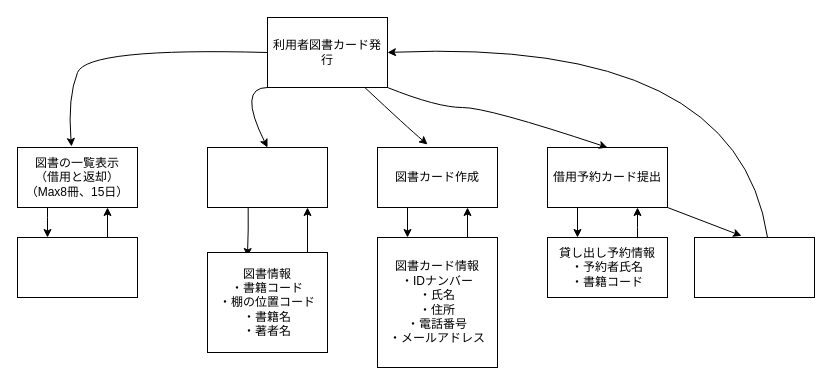
This 832x385 diagram has some shape labels left out. Each missing label, with the box of its shape:
図書検索: (206, 146, 328, 208)
貸し出し可能連絡: (694, 236, 814, 298)
貸し出し図書情報 ・貸し出し先氏名 ・書籍コード ・貸し出し期限: (16, 236, 138, 298)
